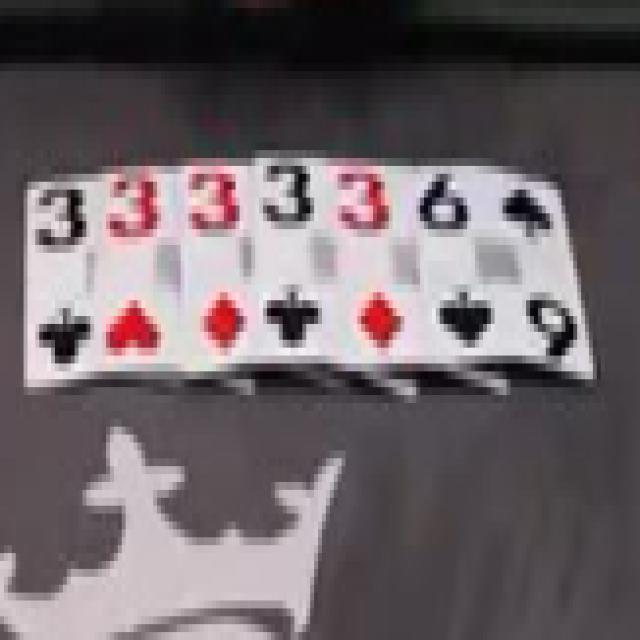Card-3: (324, 159, 419, 363), (100, 160, 181, 373), (251, 157, 332, 361), (180, 160, 255, 368), (23, 180, 98, 377)
Card-6: (411, 164, 596, 377)
